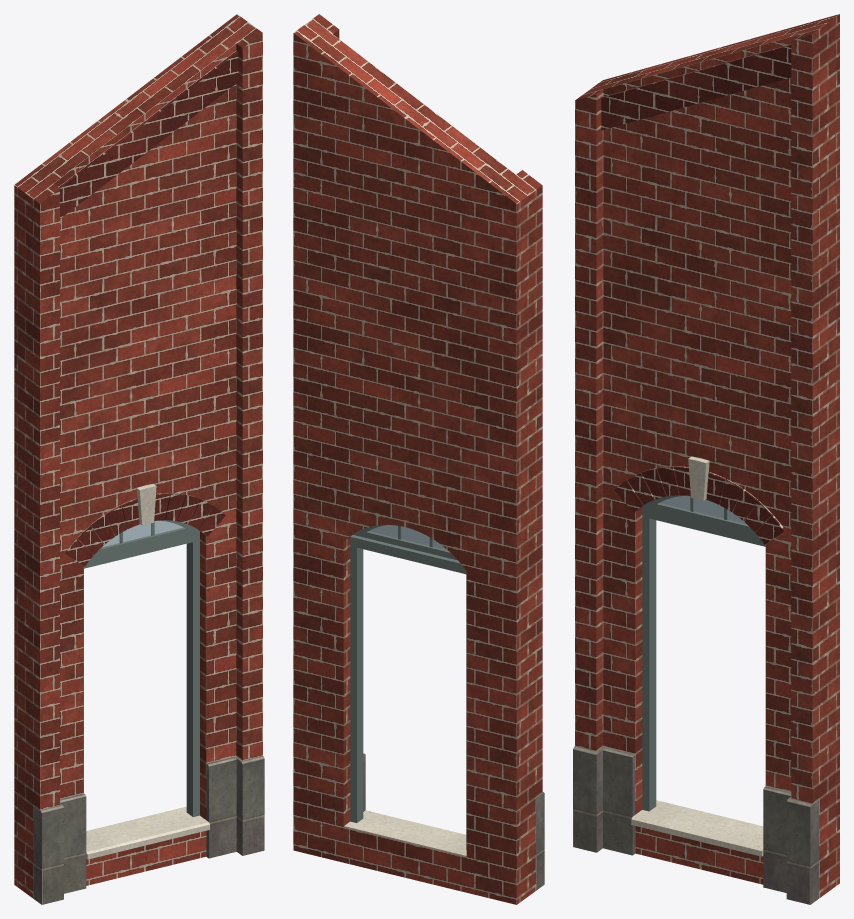
The model's file is h_side_door_l0.glb.
The picture shows the model from 3 angles, left to right: view 1: azimuth 30°, elevation 25°; view 2: azimuth 150°, elevation 25°; view 3: azimuth 330°, elevation 25°; orthographic projection. The views are drawn at different scales.
Visible parts, largest first — view 1: h_side_door_l0_brick, h_side_door_l0_plinth, h_side_door_l0_brick2, h_side_door_l0_wframe, h_side_door_l0_trim, h_side_door_l0_glass; view 2: h_side_door_l0_brick, h_side_door_l0_wframe, h_side_door_l0_trim, h_side_door_l0_plinth, h_side_door_l0_glass; view 3: h_side_door_l0_brick, h_side_door_l0_plinth, h_side_door_l0_brick2, h_side_door_l0_wframe, h_side_door_l0_trim, h_side_door_l0_glass.
Part boxes in pixels (x1,y1,x2,y2): h_side_door_l0_brick: (14,14,262,898); h_side_door_l0_plinth: (33,756,264,904); h_side_door_l0_brick2: (58,50,238,566); h_side_door_l0_wframe: (83,520,199,816); h_side_door_l0_trim: (86,484,209,859); h_side_door_l0_glass: (102,520,183,547); h_side_door_l0_brick: (293,14,542,904); h_side_door_l0_wframe: (350,525,466,849); h_side_door_l0_trim: (344,810,466,857); h_side_door_l0_plinth: (363,753,544,890); h_side_door_l0_glass: (369,525,447,550); h_side_door_l0_brick: (575,14,839,897); h_side_door_l0_plinth: (573,746,819,904); h_side_door_l0_brick2: (601,44,791,544); h_side_door_l0_wframe: (642,495,765,811); h_side_door_l0_trim: (631,456,763,856); h_side_door_l0_glass: (659,495,745,523).
Bounding box in the file's own units: 2 × 7 × 0.43.
6 materials, 4 textured.
